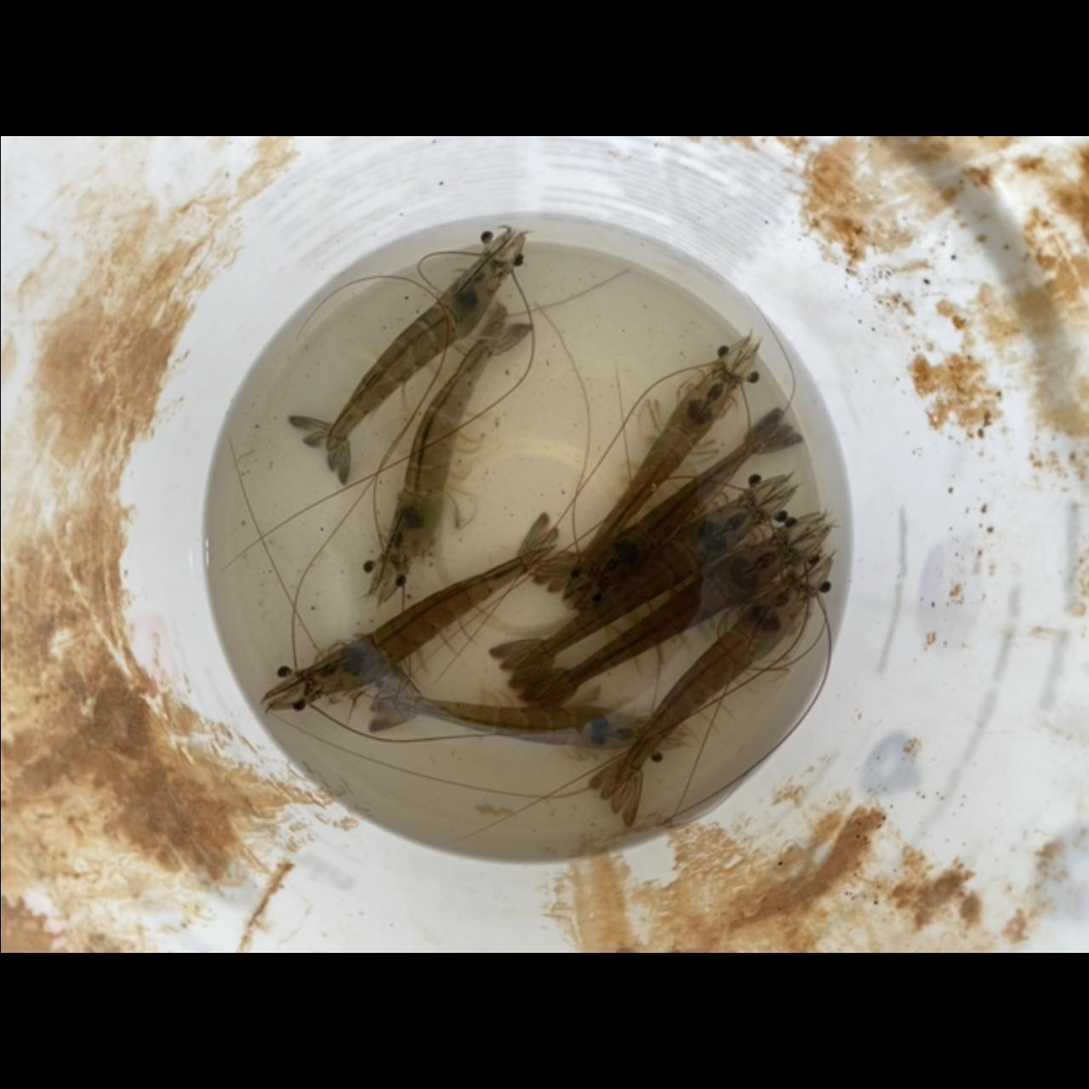top_shrimp: (611, 578, 811, 799), (517, 492, 763, 669), (539, 531, 794, 700), (564, 366, 739, 596), (303, 546, 558, 701), (324, 252, 505, 454), (587, 424, 781, 596), (381, 325, 504, 566), (378, 696, 656, 752)
